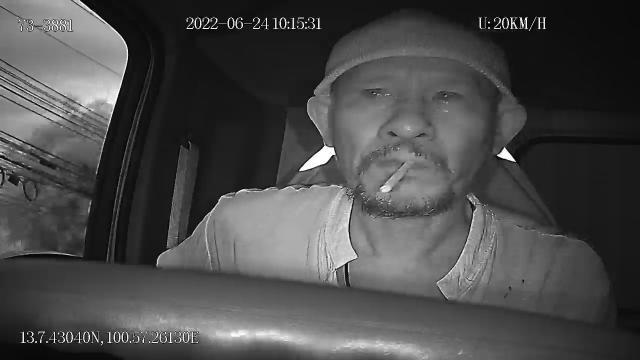SafeDriving: (423, 78, 472, 111), (356, 76, 400, 106)
Smoking: (379, 158, 416, 196)
